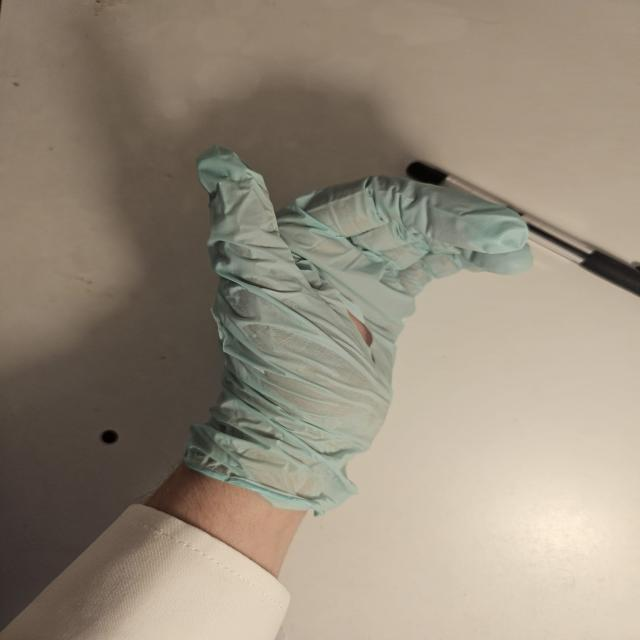gloves_damaged: (177, 142, 538, 521)
